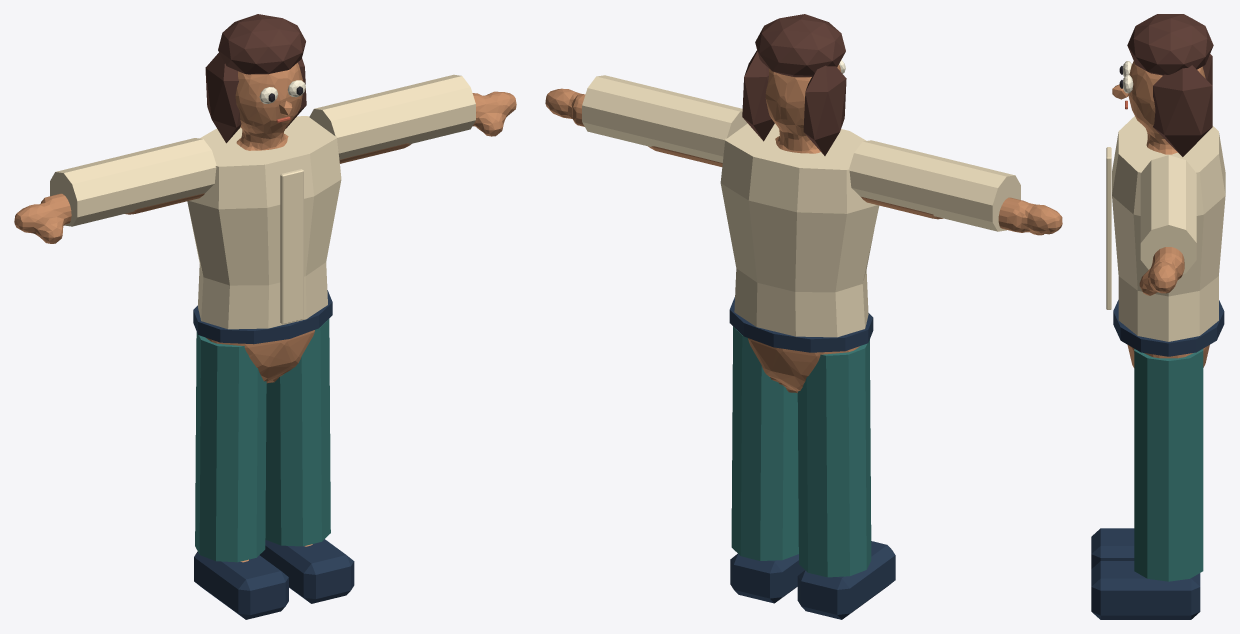
Rendered from Civilian_09.fbx.
3 renders of one model, left to right at view 1: azimuth 30°, elevation 25°; view 2: azimuth 150°, elevation 25°; view 3: azimuth 270°, elevation 25°, orthographic. The views are drawn at different scales.
Visible parts, largest first — view 1: Shirt.008, PantsLeg.016, PantsLeg.017, Civilian_09_Base_BaseFemale_TPose_Body, Sleeve.016, Sleeve.017, Shoe.016, HairCap.008, Shoe.017, JacketOpening.001, Belt.008, HairSide.004; view 2: Shirt.008, PantsLeg.016, PantsLeg.017, Sleeve.016, Sleeve.017, Civilian_09_Base_BaseFemale_TPose_Body, HairCap.008, Shoe.016, HairSide.004, Shoe.017, Belt.008, HairSide.005; view 3: PantsLeg.017, Shirt.008, Sleeve.017, Shoe.017, HairCap.008, HairSide.005, Civilian_09_Base_BaseFemale_TPose_Body, Belt.008, Shoe.016, JacketOpening.001, HairSide.004.
Part boxes in pixels (<box>): Shirt.008: <box>187,116,341,329</box>; PantsLeg.016: <box>195,332,266,562</box>; PantsLeg.017: <box>265,319,330,546</box>; Civilian_09_Base_BaseFemale_TPose_Body: <box>14,62,516,562</box>; Sleeve.016: <box>50,138,216,226</box>; Sleeve.017: <box>309,74,475,159</box>; Shoe.016: <box>194,551,288,619</box>; HairCap.008: <box>218,14,305,74</box>; Shoe.017: <box>260,539,354,603</box>; JacketOpening.001: <box>280,169,303,324</box>; Belt.008: <box>193,290,332,344</box>; HairSide.004: <box>205,52,241,143</box>; Shirt.008: <box>720,123,879,337</box>; PantsLeg.016: <box>797,339,871,577</box>; PantsLeg.017: <box>731,326,798,560</box>; Sleeve.016: <box>849,140,1020,231</box>; Sleeve.017: <box>582,75,747,162</box>; Civilian_09_Base_BaseFemale_TPose_Body: <box>545,64,1062,393</box>; HairCap.008: <box>755,14,845,77</box>; Shoe.016: <box>797,541,895,619</box>; HairSide.004: <box>803,65,846,155</box>; Shoe.017: <box>730,553,804,603</box>; Belt.008: <box>729,297,873,352</box>; HairSide.005: <box>742,50,774,141</box>; PantsLeg.017: <box>1134,349,1203,581</box>; Shirt.008: <box>1112,116,1225,341</box>; Sleeve.017: <box>1140,155,1196,273</box>; Shoe.017: <box>1091,561,1200,619</box>; HairCap.008: <box>1127,14,1213,75</box>; HairSide.005: <box>1153,65,1212,156</box>; Civilian_09_Base_BaseFemale_TPose_Body: <box>1127,61,1209,367</box>; Belt.008: <box>1113,300,1224,356</box>; Shoe.016: <box>1091,528,1134,568</box>; JacketOpening.001: <box>1106,147,1111,309</box>; HairSide.004: <box>1202,54,1212,85</box>.
Bounding box in the file's own units: 1.61 × 1.75 × 0.3664.
